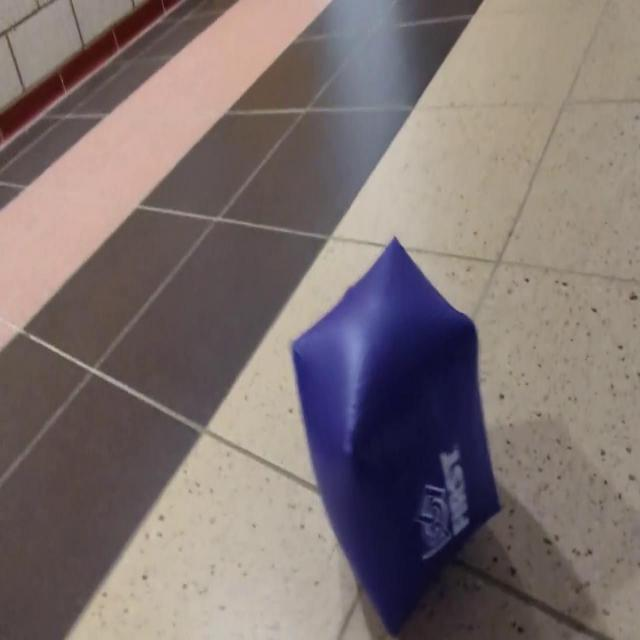frc_cube: (291, 234, 503, 634)
